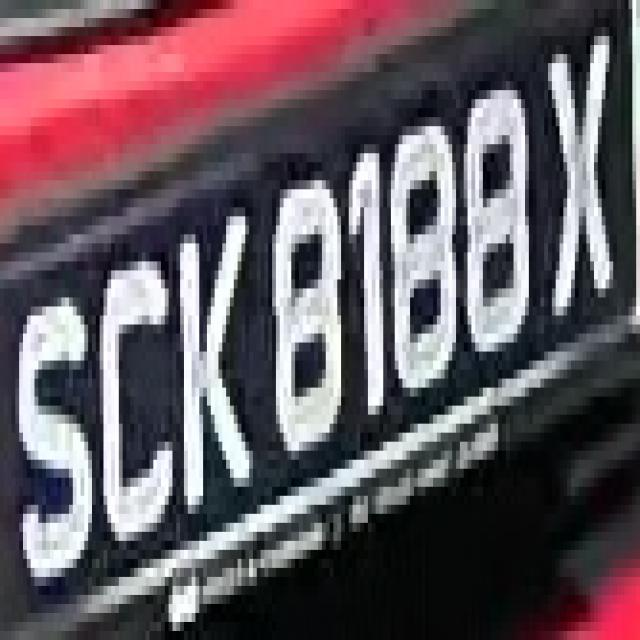1: (337, 126, 406, 451)
8: (253, 153, 353, 478), (452, 63, 540, 379), (383, 108, 464, 415)
C: (96, 207, 180, 559)
K: (165, 189, 257, 541)
S: (4, 243, 96, 604)
X: (544, 45, 613, 334)
